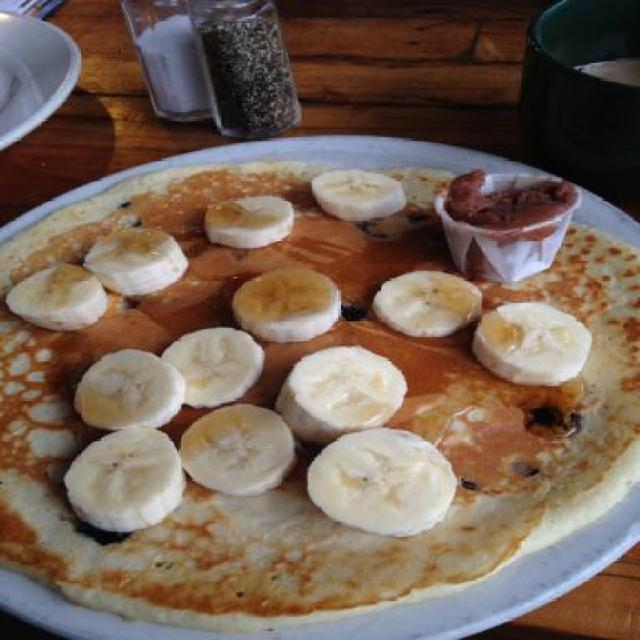Pancake: (9, 186, 594, 605)
